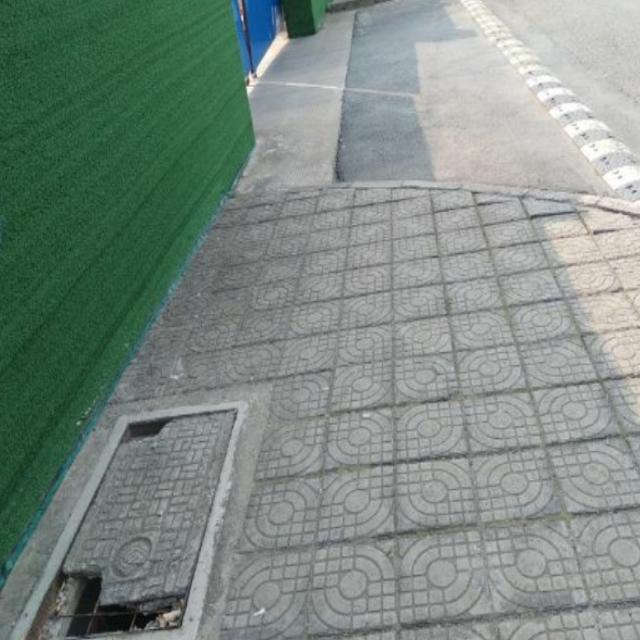Broken: (17, 400, 274, 640)
